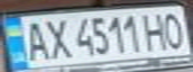1: (121, 11, 145, 53), (106, 12, 127, 54)
4: (72, 14, 93, 57)
5: (90, 14, 112, 56)
A: (18, 17, 51, 62)
H: (139, 9, 172, 52)
O: (160, 9, 190, 51)
X: (39, 15, 72, 61)
